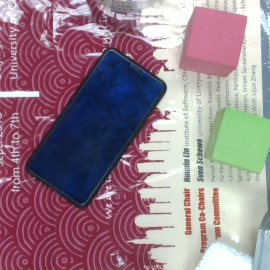phone: (26, 46, 167, 211)
